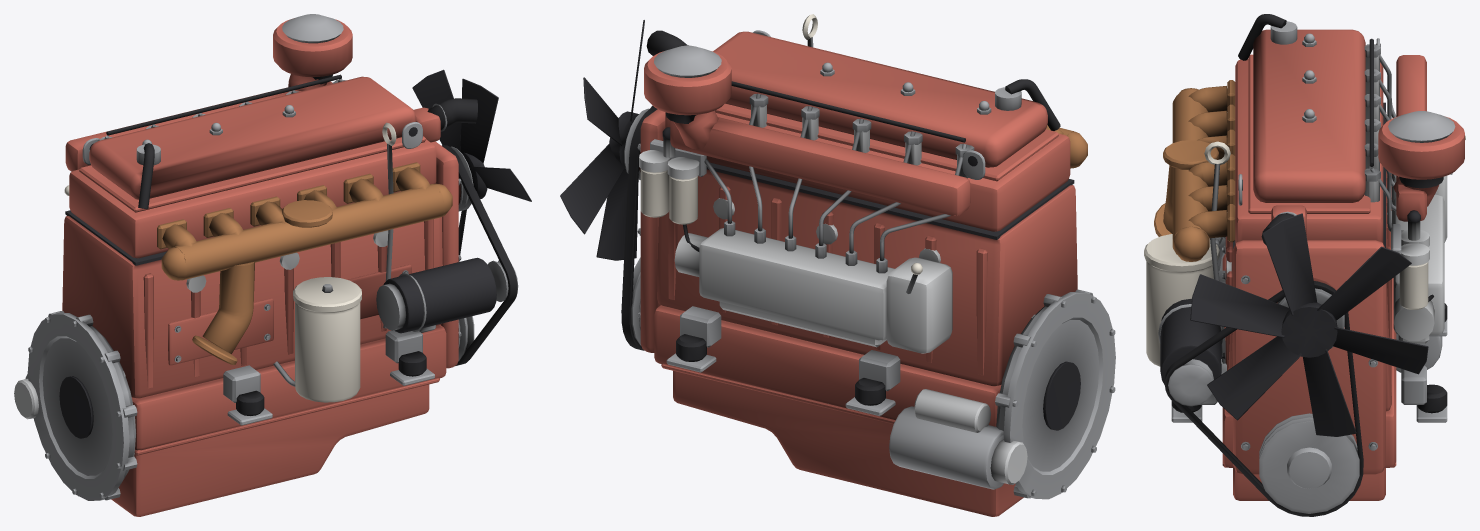
The model's file is eng_i6d.glb.
3 views of the same model, side by side, from view 1: azimuth 30°, elevation 25°; view 2: azimuth 150°, elevation 25°; view 3: azimuth 270°, elevation 25° (orthographic). The views are drawn at different scales.
Parts seen in each view (by area): view 1: PART; view 2: PART; view 3: PART.
Part boxes in pixels (x1,y1,x2,y2): PART: (14, 14, 531, 516); PART: (560, 14, 1115, 516); PART: (1144, 14, 1465, 516).
Bounding box in the file's own units: 1 × 0.88 × 0.6304.
